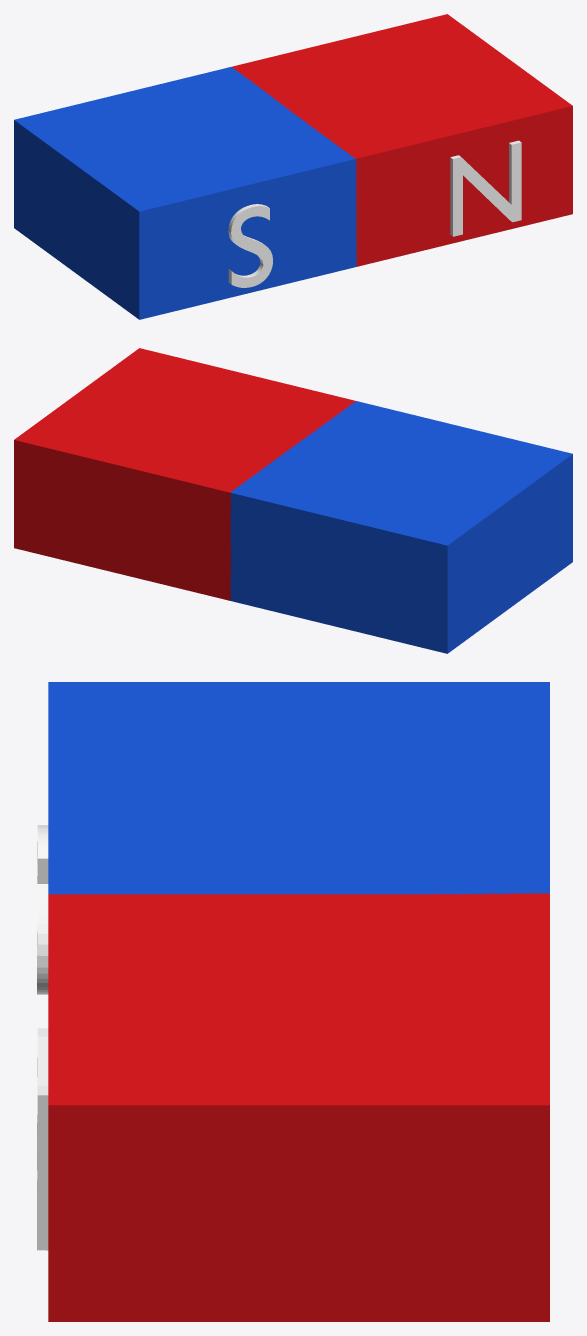
File: barmagnet.glb
The picture shows the model from 3 angles, top to bottom: view 1: azimuth 30°, elevation 25°; view 2: azimuth 150°, elevation 25°; view 3: azimuth 270°, elevation 25°; orthographic projection. The views are drawn at different scales.
Visible parts, largest first — view 1: Text, Text.001; view 2: Text, Text.001; view 3: Text.001, Text.
Boxes of the visible parts, x1,y1,x2,y2 form: Text: (14,67,356,319); Text.001: (231,14,572,266); Text: (230,401,572,653); Text.001: (14,348,356,600); Text.001: (37,893,549,1321); Text: (37,682,549,994).
Size of the model in its own units: 0.2271 by 0.0542 by 0.1164.
